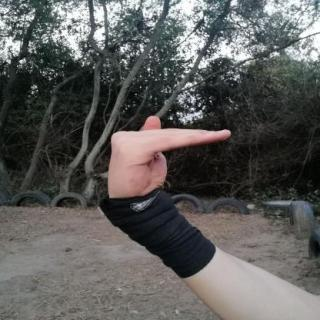KHAA: (86, 110, 243, 212)
